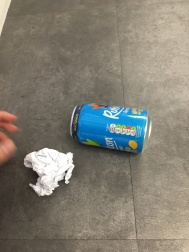can_blue: (55, 88, 166, 163)
paper_white: (21, 142, 79, 205)
